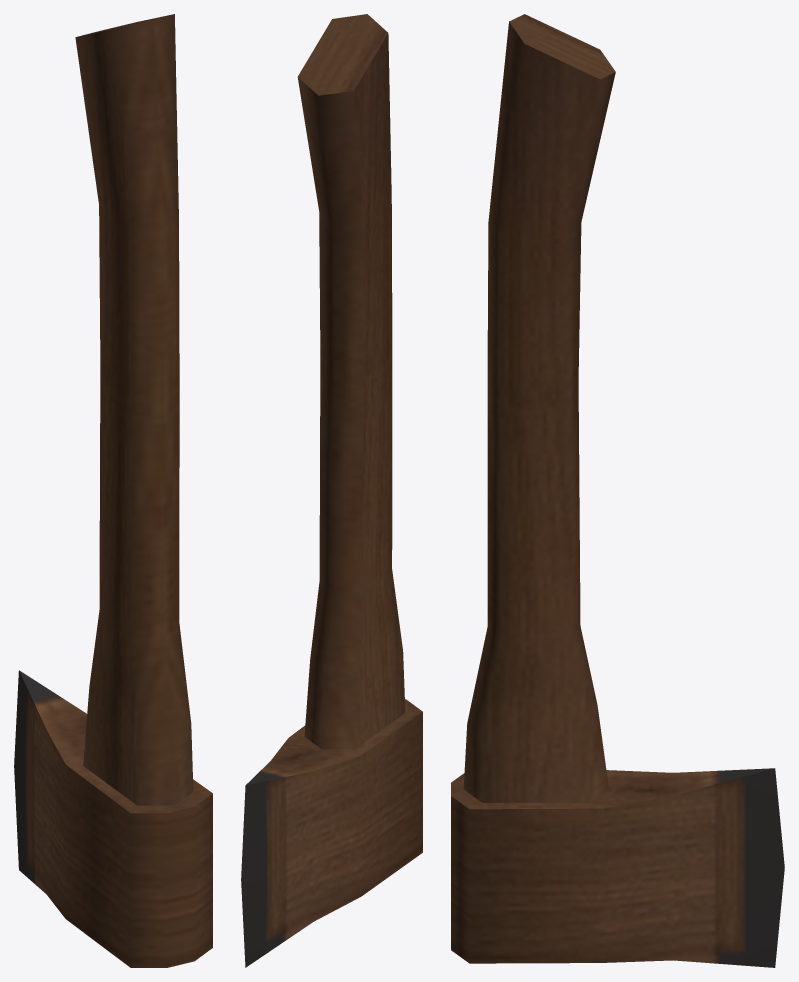
File: HandAxe.fbx
3 renders of one model, left to right at view 1: azimuth 30°, elevation 25°; view 2: azimuth 150°, elevation 25°; view 3: azimuth 270°, elevation 25°, orthographic. The views are drawn at different scales.
Visible parts, largest first — view 1: HandAxe.X_HandAxe; view 2: HandAxe.X_HandAxe; view 3: HandAxe.X_HandAxe.
Boxes of the visible parts, box(x1,y1,x2,y2) form: HandAxe.X_HandAxe: box(14, 14, 212, 967); HandAxe.X_HandAxe: box(241, 14, 422, 967); HandAxe.X_HandAxe: box(451, 14, 784, 967).
Size of the model in its own units: 0.0271 by 0.2982 by 0.0953.
